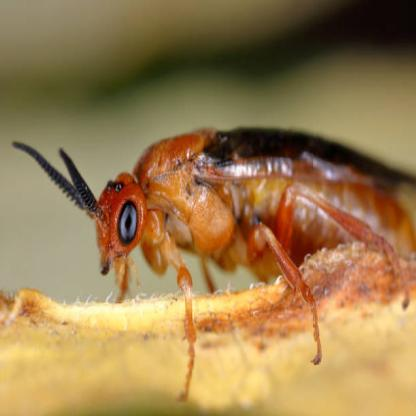sawfly: (5, 105, 416, 416)
